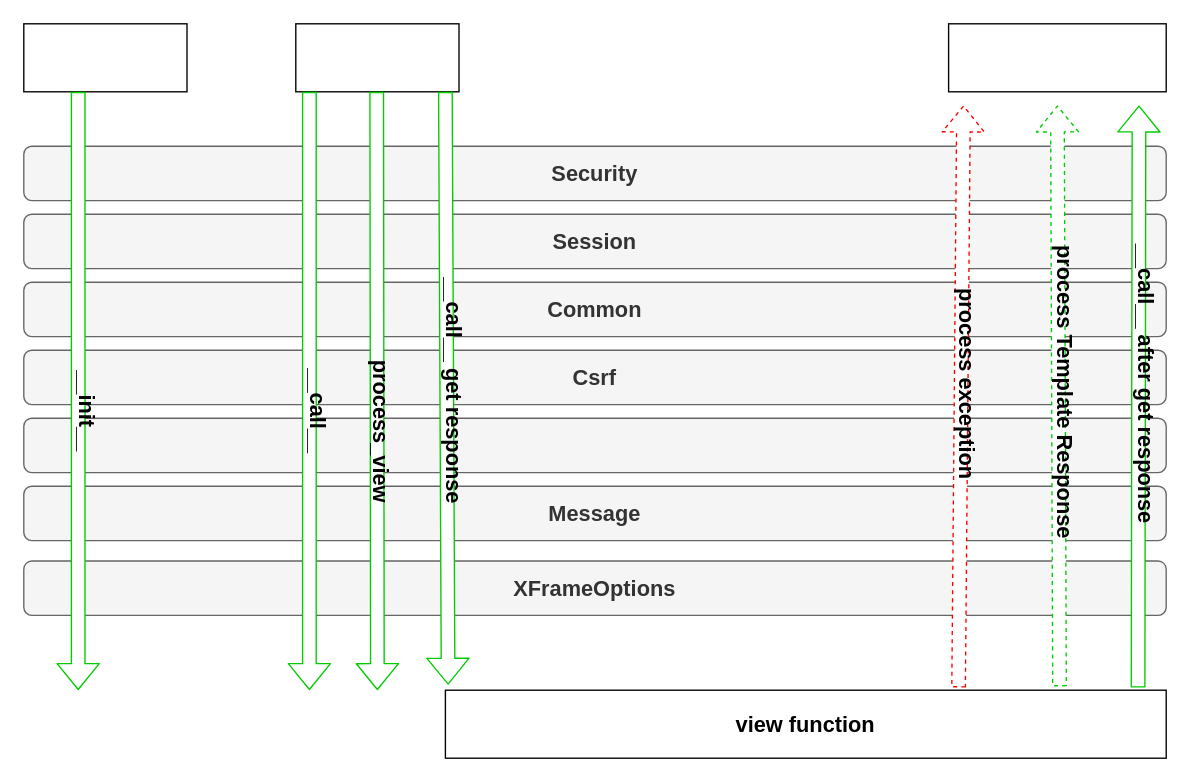
This 1191x782 diagram has some shape labels left out. The box of each missing label's shape, as (x1, y1, x2, y2) in pixels:
Authentication: (22, 417, 1166, 473)
HttpRequest: (294, 22, 459, 92)
HttpResponse: (947, 22, 1166, 92)
Server start-up: (22, 22, 187, 92)
